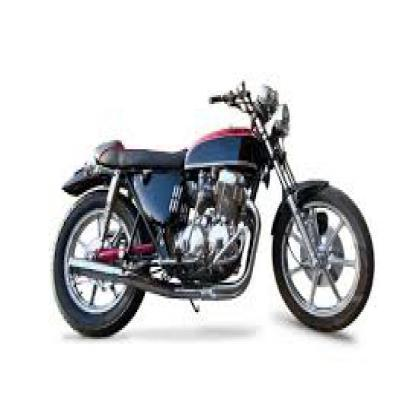Motorcycle: (54, 66, 379, 346)
